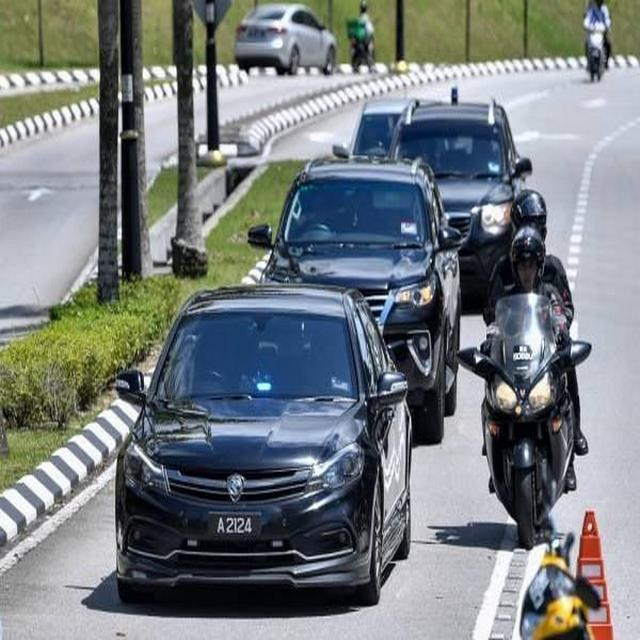License_Plate: (203, 507, 271, 547)
car: (107, 294, 433, 604)
